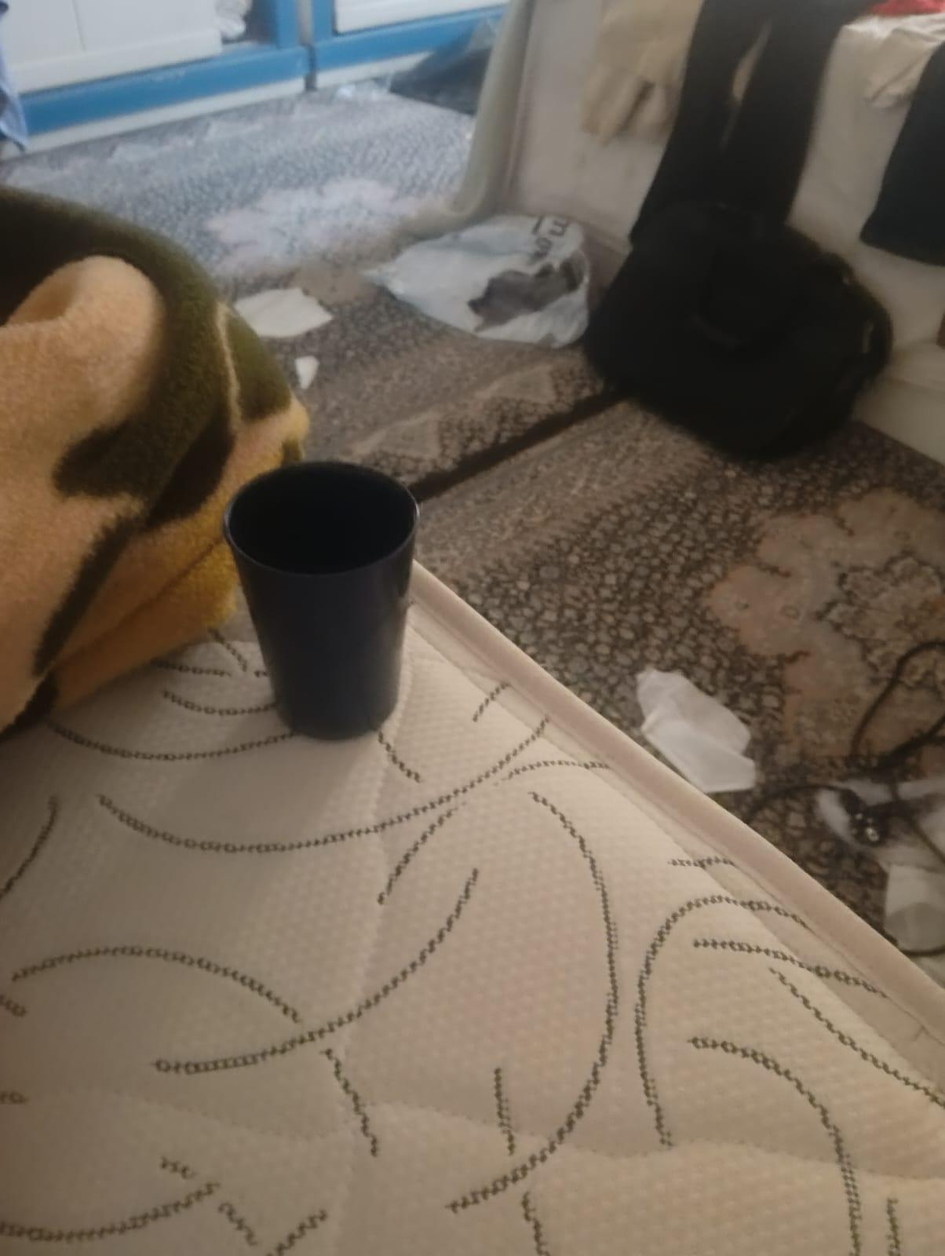cup: (224, 462, 418, 739)
